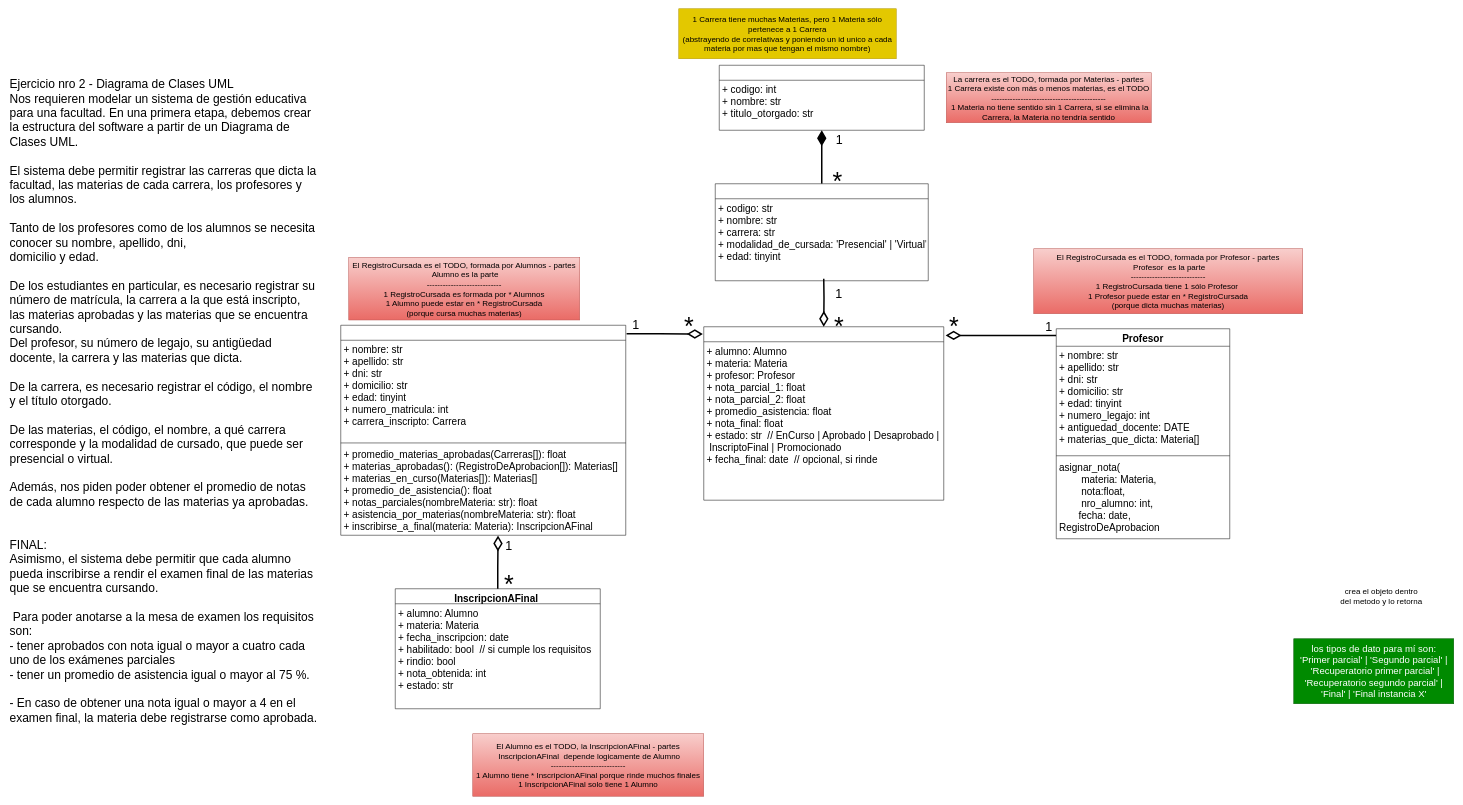
Some shapes in this 1463 by 805 pixel diagram are drawn without their labels. Each missing label, with the box of its shape:
Alumno: (340, 325, 626, 535)
Carrera: (719, 65, 924, 130)
Materia: (715, 183, 928, 281)
RegistroCursada: (703, 326, 944, 500)
